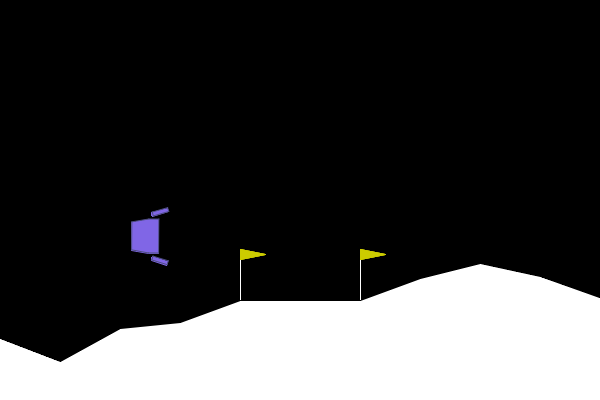lander: (129, 206, 169, 267)
